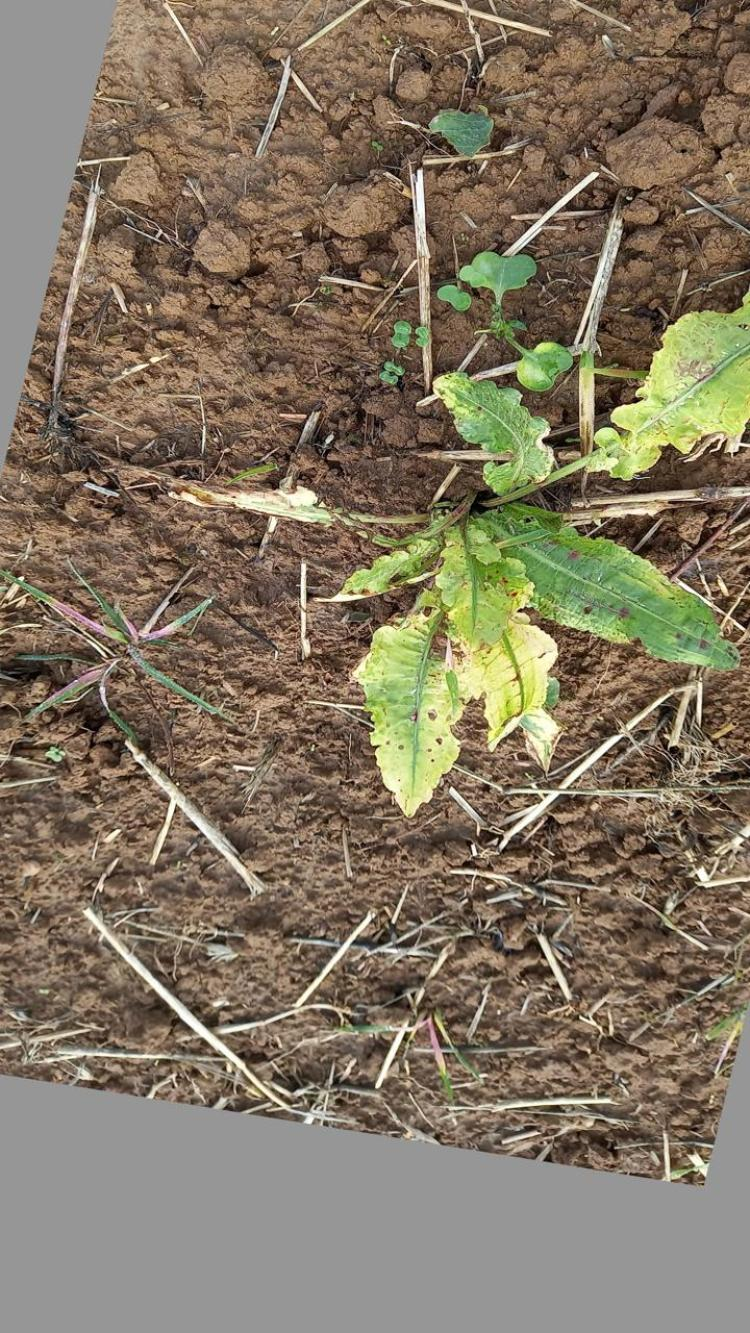zhavel: (335, 289, 750, 822)
